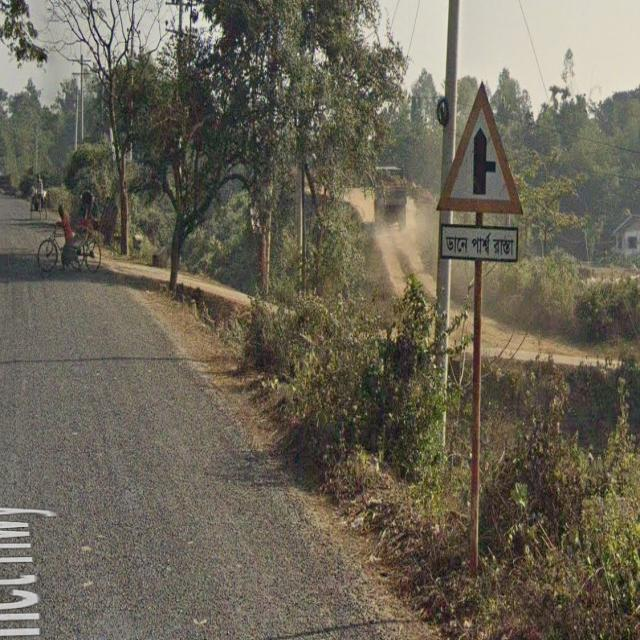Side-road-right: (436, 83, 524, 266)
